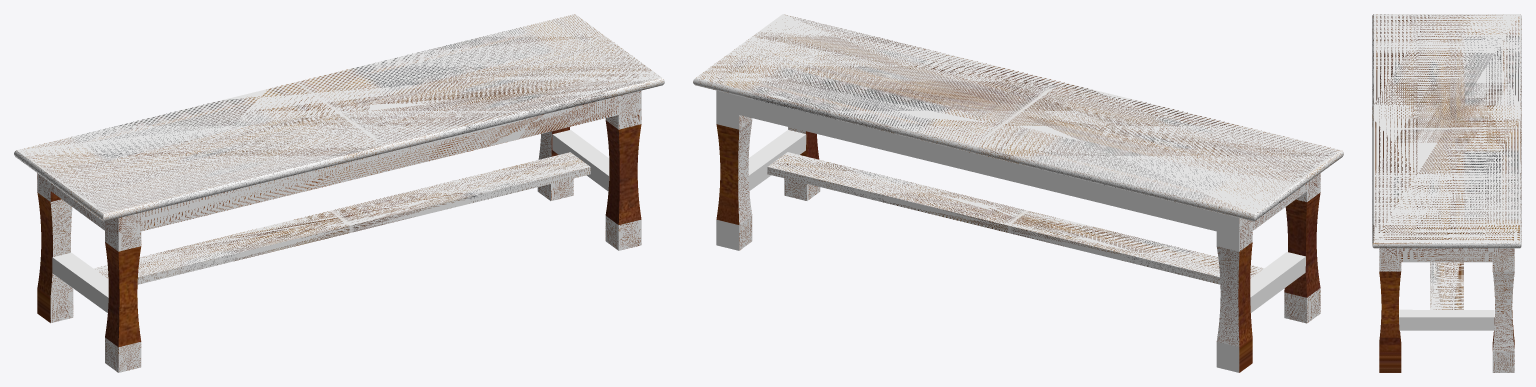
3 views of the same model, side by side, from view 1: azimuth 30°, elevation 25°; view 2: azimuth 150°, elevation 25°; view 3: azimuth 270°, elevation 25° (orthographic). The views are drawn at different scales.
Parts seen in each view (by area): view 1: mesh1_mesh1-geometry, mesh2_mesh2-geometry; view 2: mesh1_mesh1-geometry, mesh2_mesh2-geometry; view 3: mesh1_mesh1-geometry, mesh2_mesh2-geometry.
Part boxes in pixels (<box>): mesh1_mesh1-geometry: <box>14,14,664,372</box>; mesh2_mesh2-geometry: <box>94,152,590,284</box>; mesh1_mesh1-geometry: <box>693,14,1343,372</box>; mesh2_mesh2-geometry: <box>767,152,1263,284</box>; mesh1_mesh1-geometry: <box>1372,14,1521,372</box>; mesh2_mesh2-geometry: <box>1430,262,1463,309</box>.
Size of the model in its own units: 0.9306 by 0.2617 by 0.2559.
